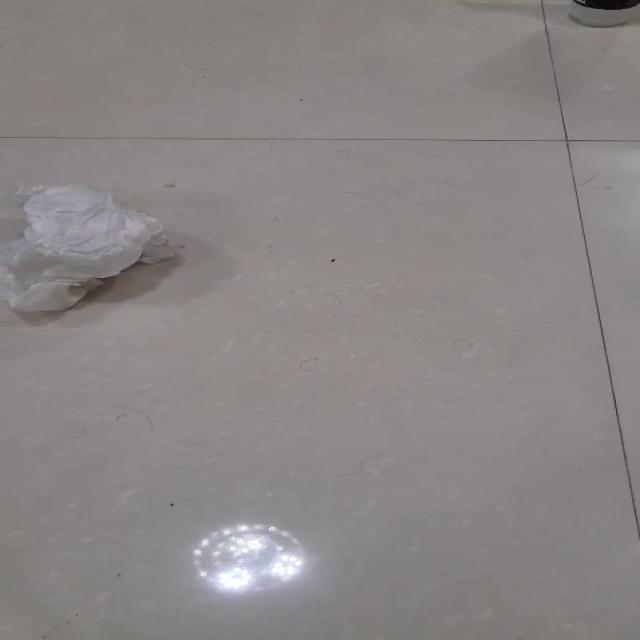plastic: (0, 182, 173, 312)
